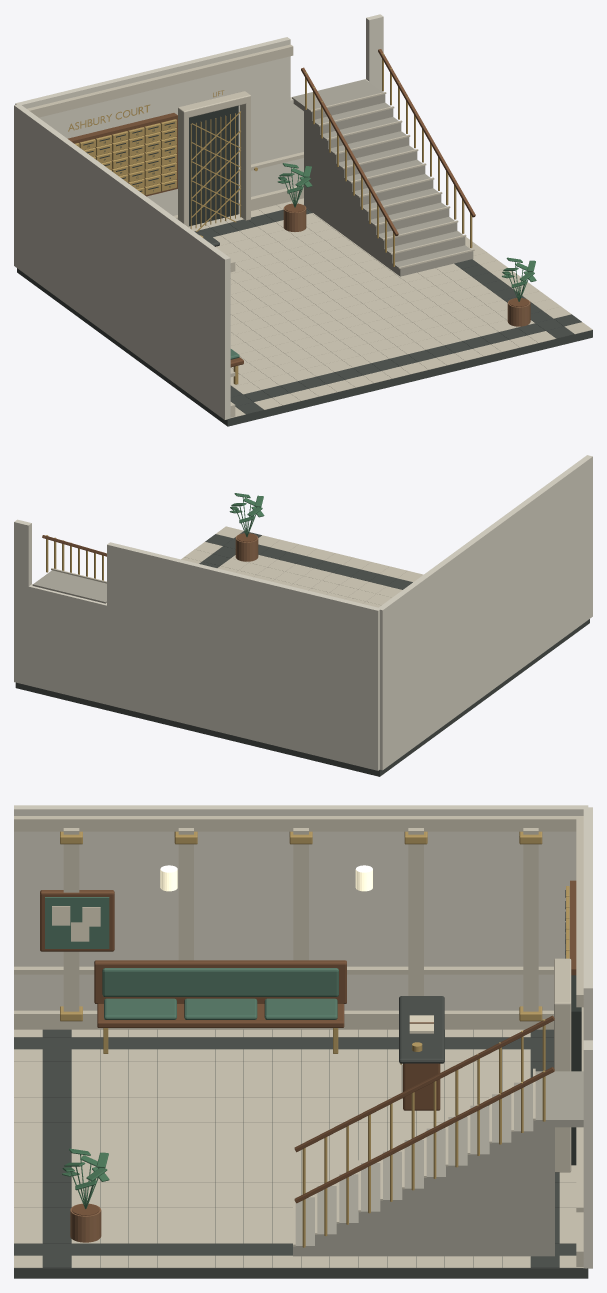
The model's file is interior-ashbury.glb.
3 renders of one model, top to bottom at view 1: azimuth 30°, elevation 25°; view 2: azimuth 150°, elevation 25°; view 3: azimuth 270°, elevation 25°, orthographic. The views are drawn at different scales.
Visible parts, largest first — view 1: stone floor tile, west plaster, upper landing, rear plaster, floor substrate, rear stone molding, mailbox door, mail slot, reception front, counter brass trim, leaf stem, plant pot (+1 smaller); view 2: rear plaster, west plaster, stone floor tile, floor substrate, upper landing, leaf stem, counter brass trim, plant pot; view 3: stone floor tile, west plaster, upper landing, floor substrate, west stone molding, bench cushion, reception front, rear stone molding, rear plaster, counter brass trim, notice backing, pilaster capital (+7 smaller).
Boxes of the visible parts, x1=… form: stone floor tile: x1=189, y1=92, x2=592, y2=417; west plaster: x1=14, y1=104, x2=230, y2=419; upper landing: x1=292, y1=79, x2=473, y2=276; rear plaster: x1=15, y1=14, x2=383, y2=215; floor substrate: x1=17, y1=208, x2=592, y2=426; rear stone molding: x1=27, y1=44, x2=303, y2=227; mailbox door: x1=68, y1=90, x2=257, y2=231; mail slot: x1=83, y1=105, x2=238, y2=226; reception front: x1=215, y1=49, x2=529, y2=367; counter brass trim: x1=200, y1=53, x2=472, y2=384; leaf stem: x1=277, y1=163, x2=536, y2=301; plant pot: x1=283, y1=204, x2=530, y2=326; rear plaster: x1=14, y1=519, x2=380, y2=770; west plaster: x1=378, y1=455, x2=592, y2=770; stone floor tile: x1=51, y1=526, x2=423, y2=607; floor substrate: x1=15, y1=531, x2=589, y2=776; upper landing: x1=32, y1=570, x2=106, y2=603; leaf stem: x1=229, y1=493, x2=264, y2=536; counter brass trim: x1=46, y1=535, x2=103, y2=580; plant pot: x1=235, y1=533, x2=258, y2=561; stone floor tile: x1=14, y1=1029, x2=583, y2=1267; west plaster: x1=14, y1=805, x2=588, y2=1010; upper landing: x1=293, y1=1071, x2=583, y2=1256; floor substrate: x1=14, y1=996, x2=588, y2=1278; west stone molding: x1=14, y1=816, x2=583, y2=1029; bench cushion: x1=102, y1=968, x2=338, y2=1019; reception front: x1=72, y1=960, x2=554, y2=1215; rear stone molding: x1=554, y1=816, x2=583, y2=1266; rear plaster: x1=583, y1=807, x2=592, y2=1268; counter brass trim: x1=103, y1=1019, x2=545, y2=1247; notice backing: x1=45, y1=897, x2=109, y2=948; pilaster capital: x1=60, y1=831, x2=542, y2=1021.
Size of the model in its own units: 10.08 by 4.39 by 10.08.
